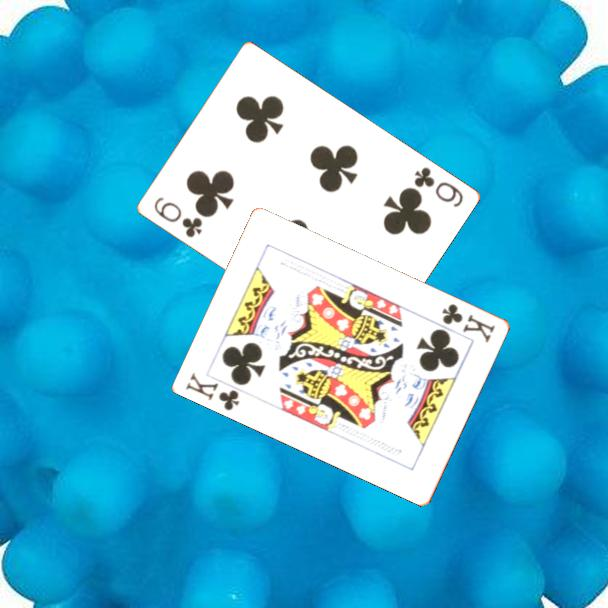c06: (150, 193, 205, 241), (410, 163, 466, 210)
c13: (439, 300, 498, 346), (183, 369, 243, 413)
